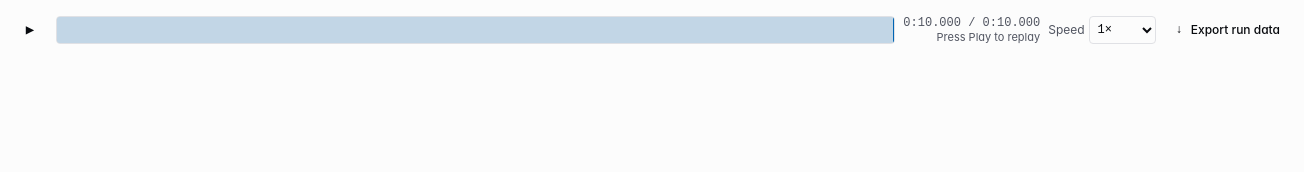
ScrubControl status › names the speed while playing, and shows a change of speed at once
Click the button with test id "scrub-control-play": {"x": 30, "y": 30} 12,12 -> 48,48
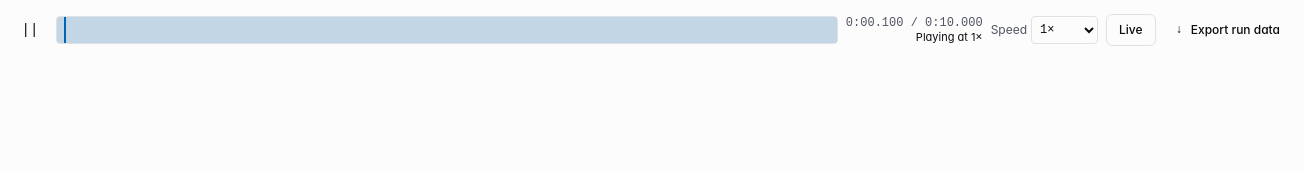
Expected: the message with test id "scrub-control-status" reads "Playing at 1×", 916,30 -> 983,44
Select "10×" in the dropdown named "Playback speed": {"x": 1064, "y": 30} 1031,16 -> 1098,44
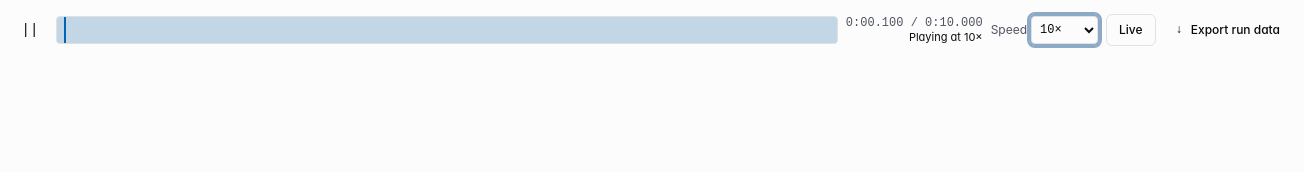
Expected: the message with test id "scrub-control-status" reads "Playing at 10×", 909,30 -> 983,44
Select "0.5×" in the dropdown named "Playback speed": {"x": 1064, "y": 30} 1031,16 -> 1098,44
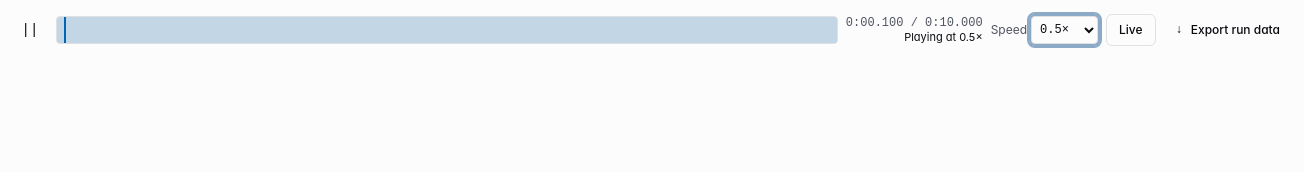
Expected: the message with test id "scrub-control-status" reads "Playing at 0.5×", 904,30 -> 983,44
